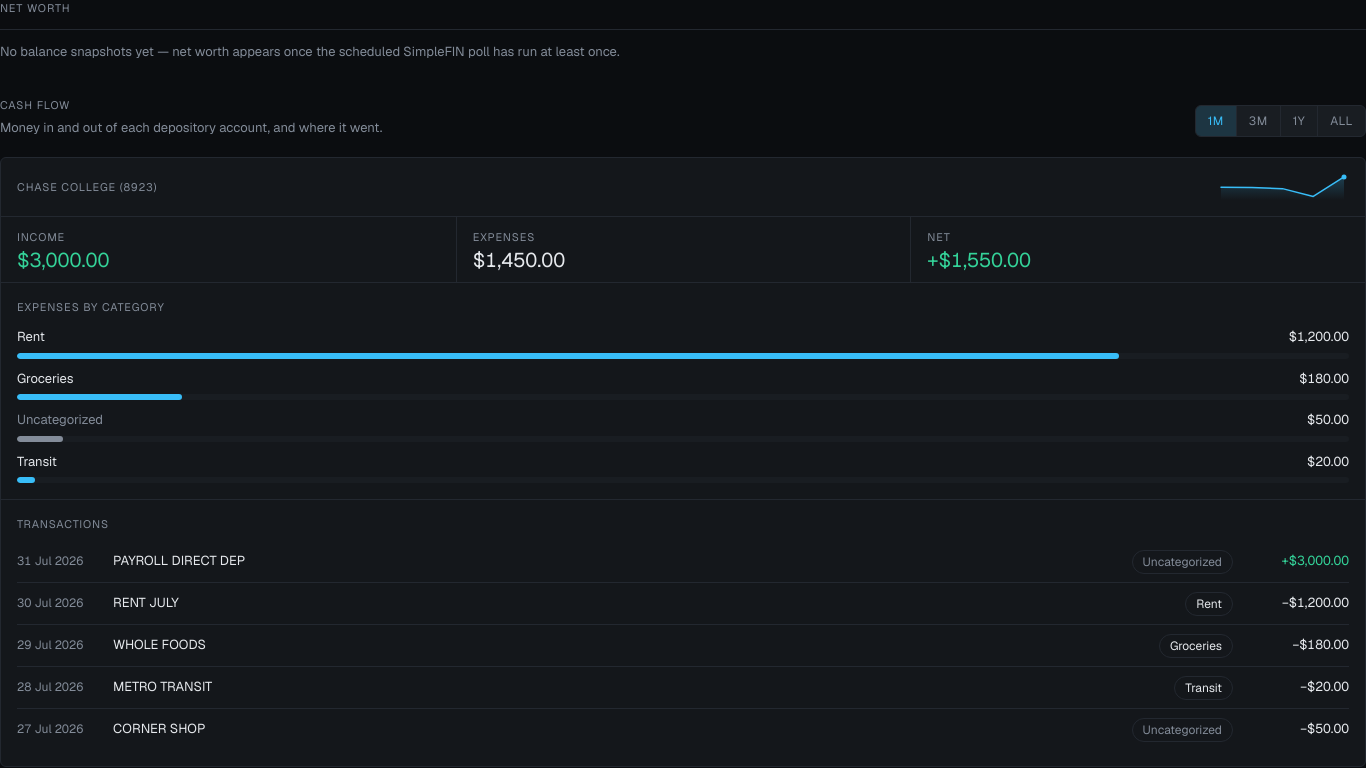
Test: categorizing a transaction › filters the list down as a name is typed, and only offers to create what is missing
Click the button "Uncategorized" in the row of "27 Jul 2026" at (1182, 730), box [1132,718,1233,742]
(page scrolled)
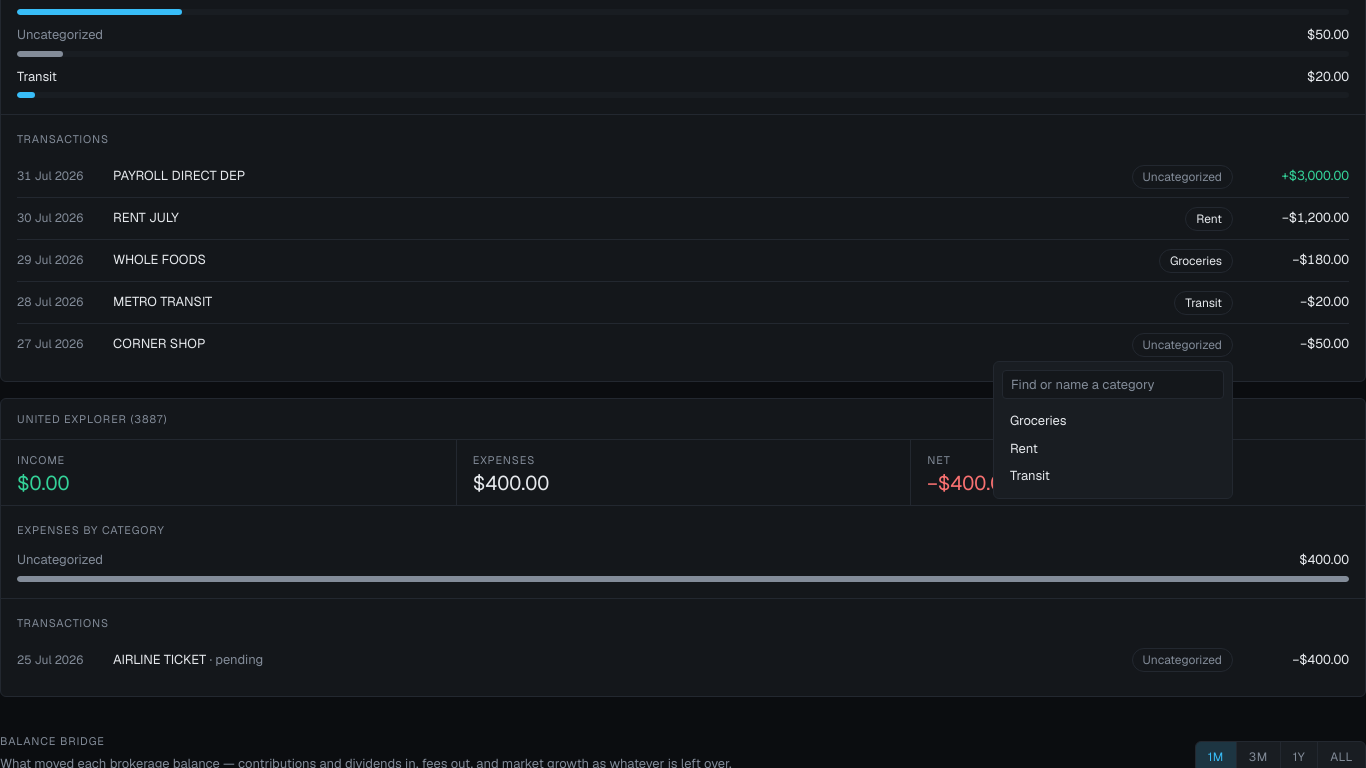
Type "ren" into the field labelled "Find or name a category" at (1113, 384), box [1002,370,1224,399]
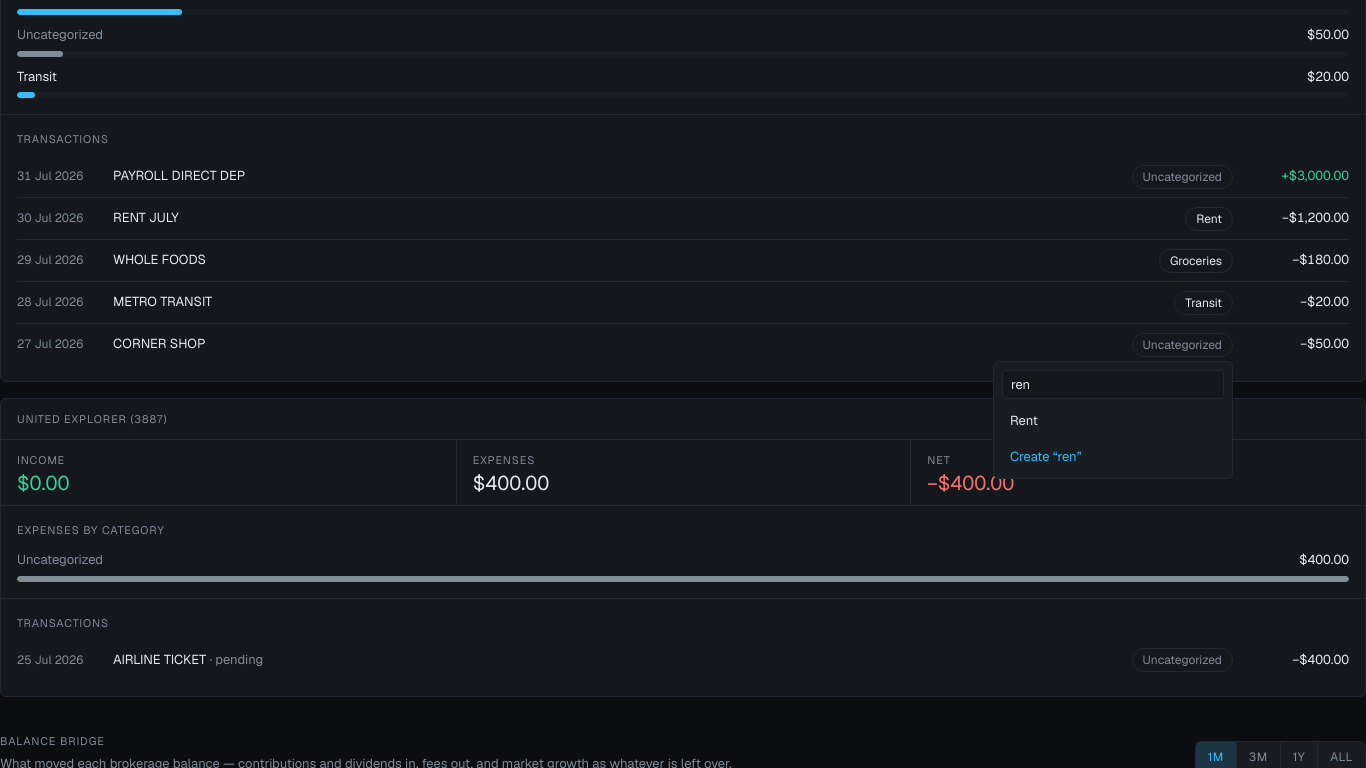
Expected: the button "Rent" is shown, [1002,407,1224,434]
Expected: the button "Create “ren”" is shown, [1002,442,1224,470]
Replace the text in the field named "Find or name a category" with "rent" at (1113, 384), box [1002,370,1224,399]
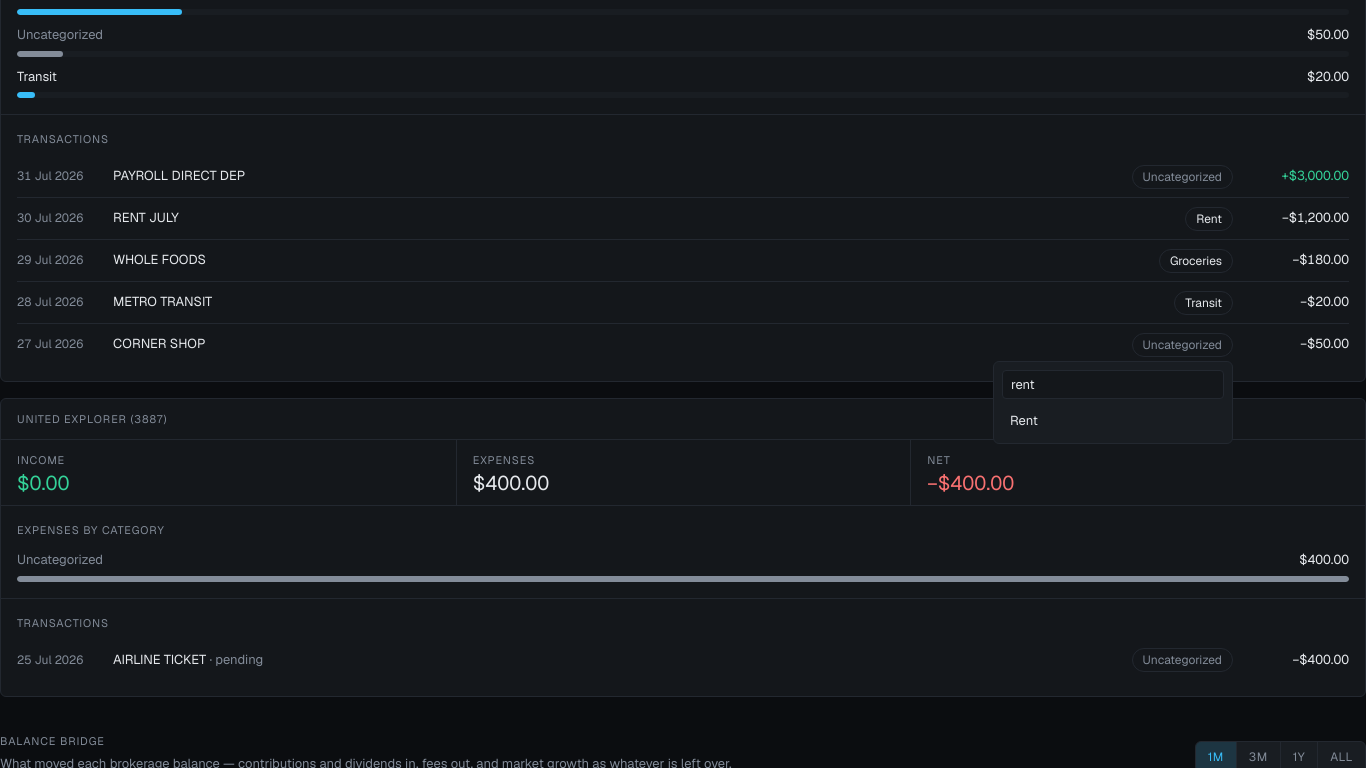
Expected: the button "Create" is gone
